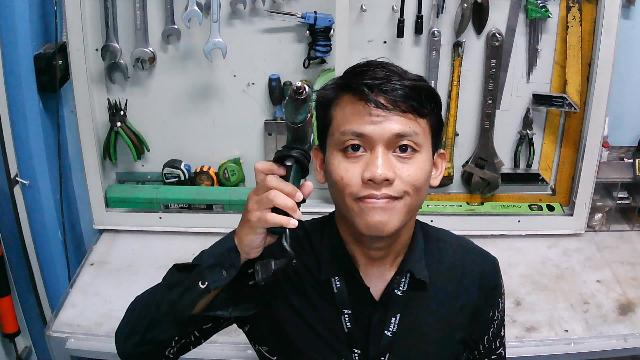gun_lem: (264, 73, 318, 236)
